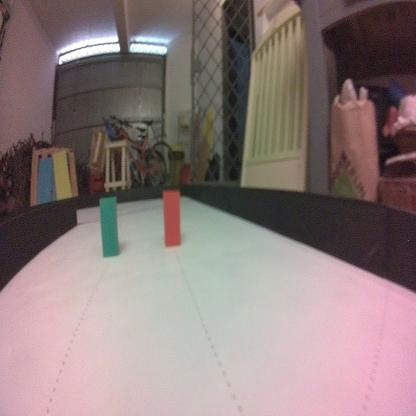green: (98, 195, 121, 258)
red: (162, 188, 181, 249)
